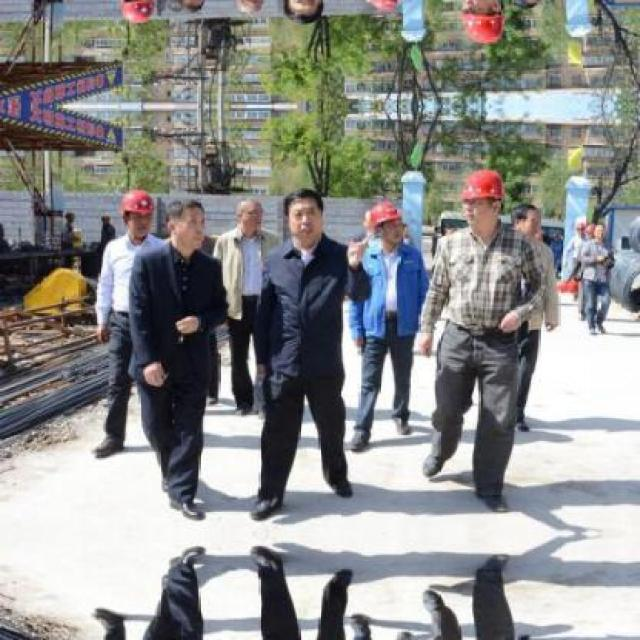hat: (451, 171, 512, 203), (362, 202, 409, 230), (120, 192, 163, 218)
